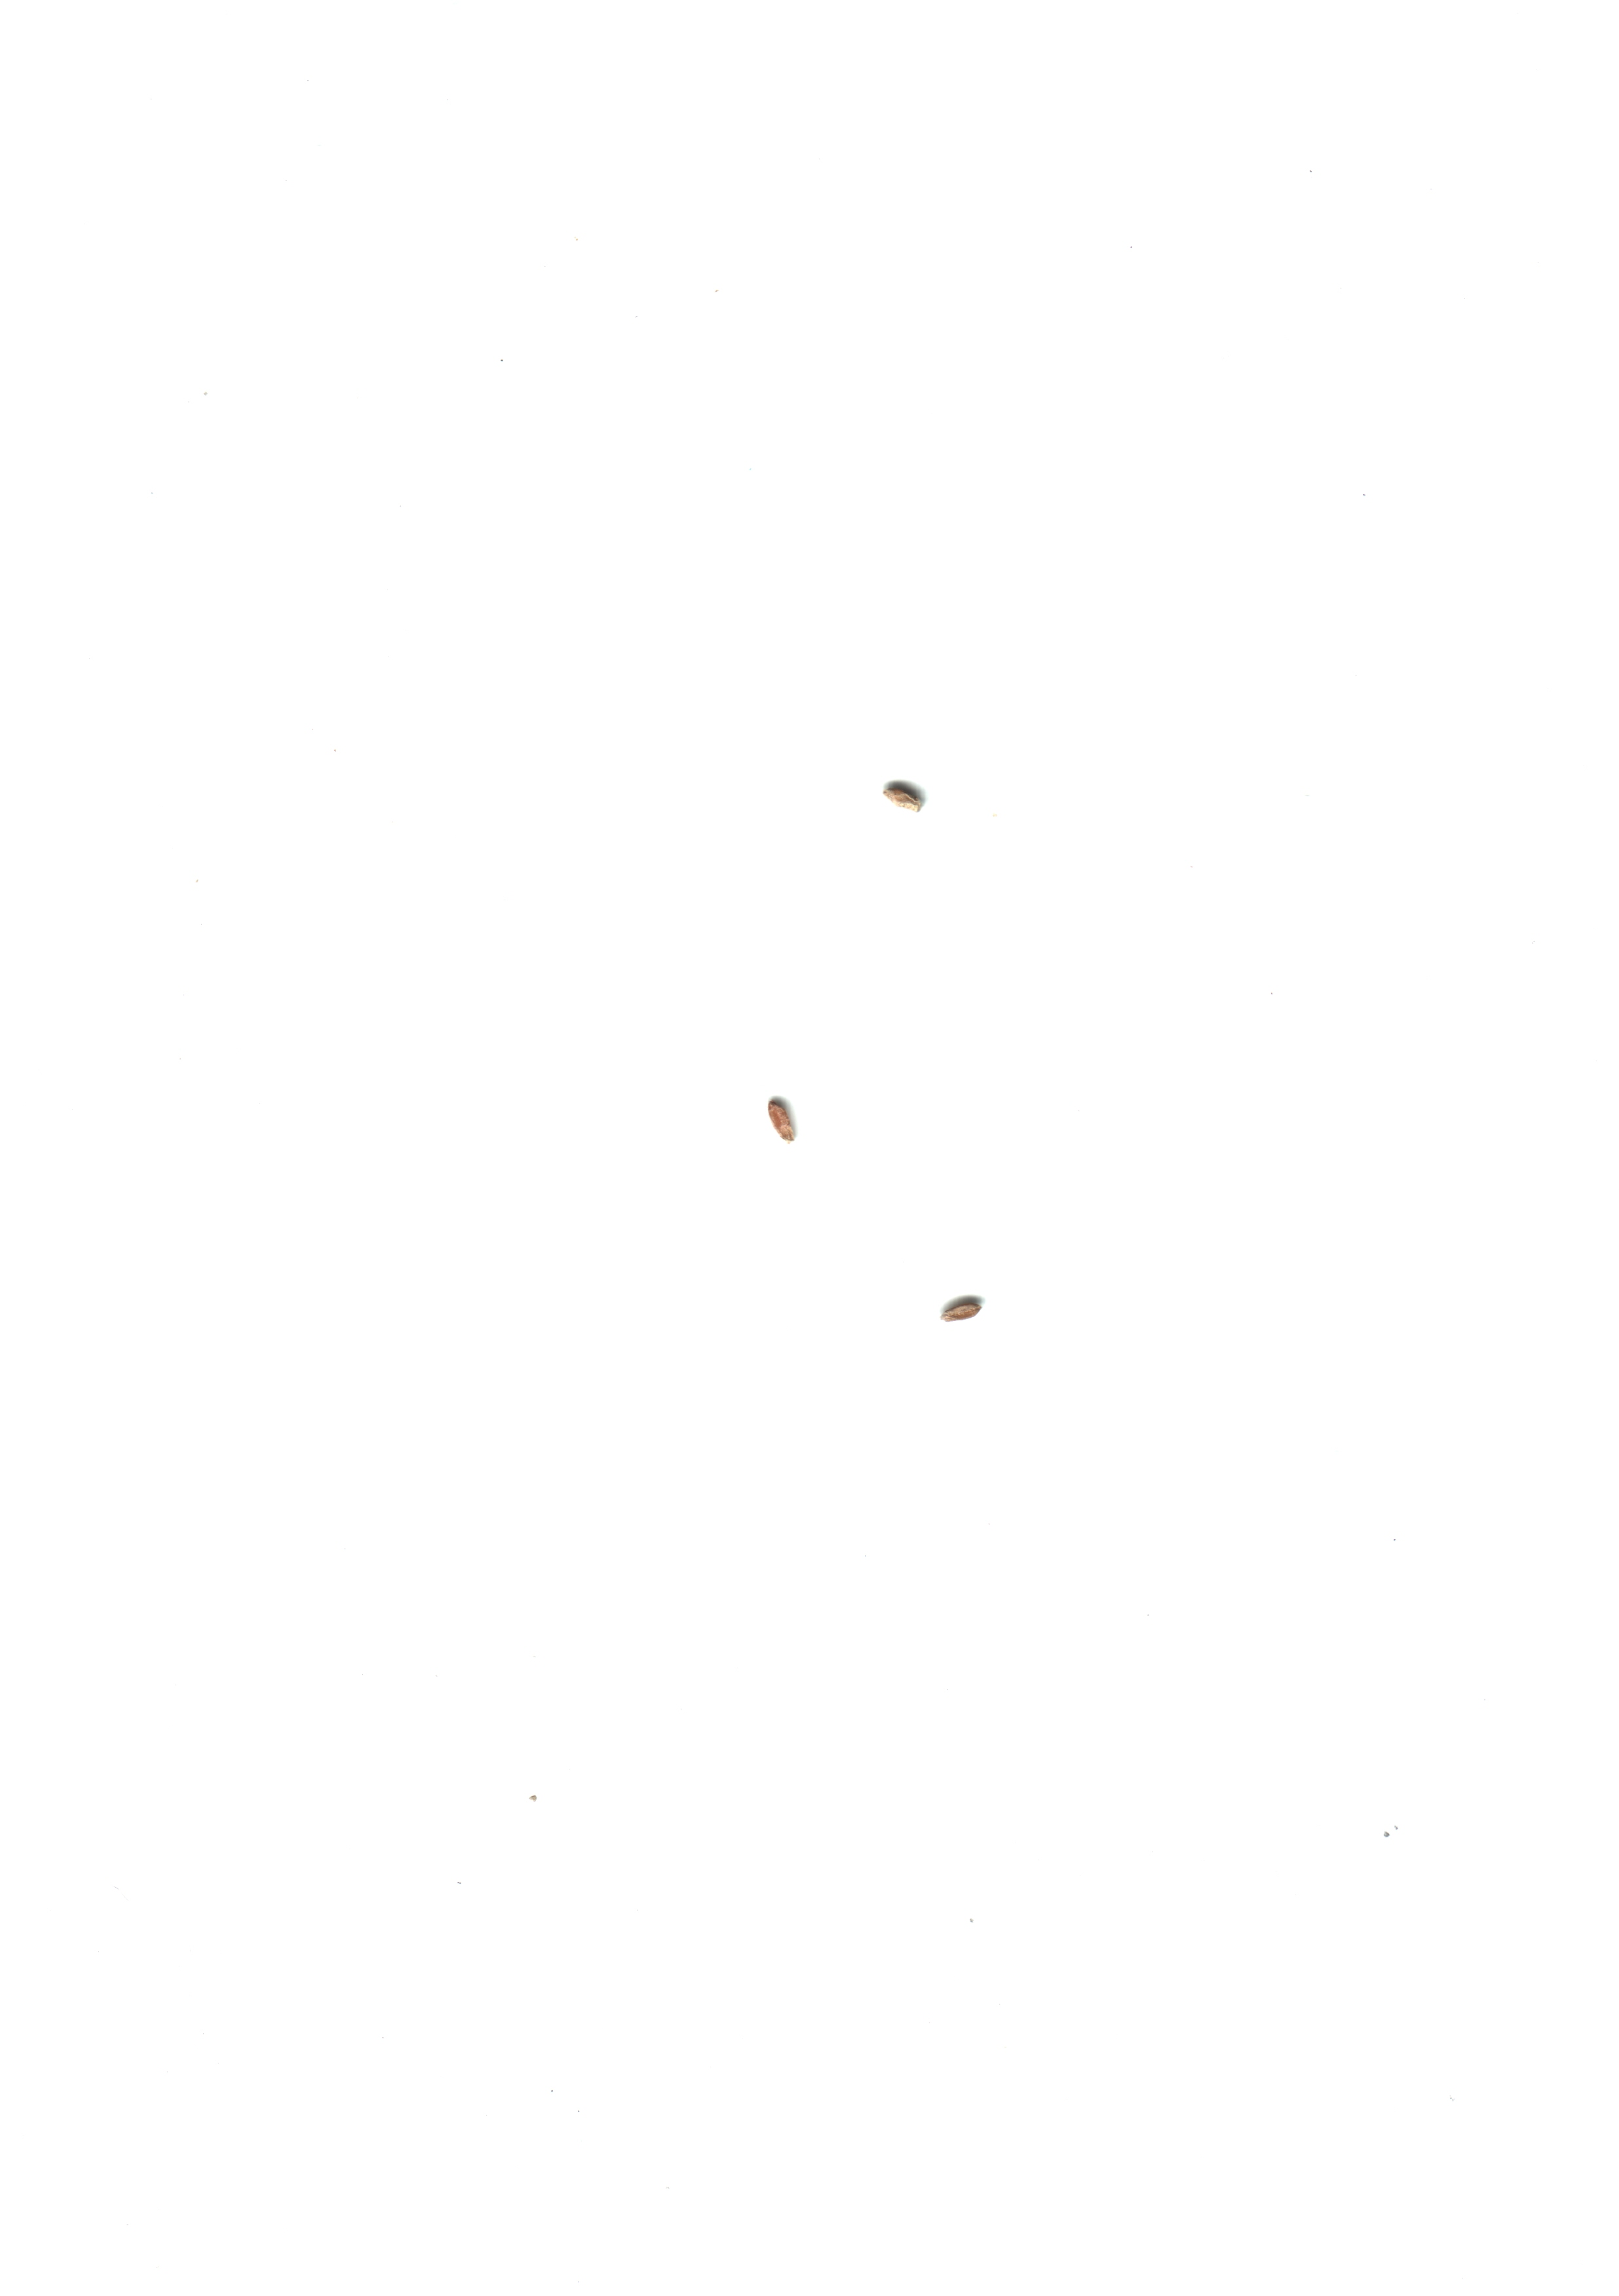grains_2mm: (867, 748, 950, 827), (918, 1262, 999, 1341), (741, 1083, 822, 1160)
